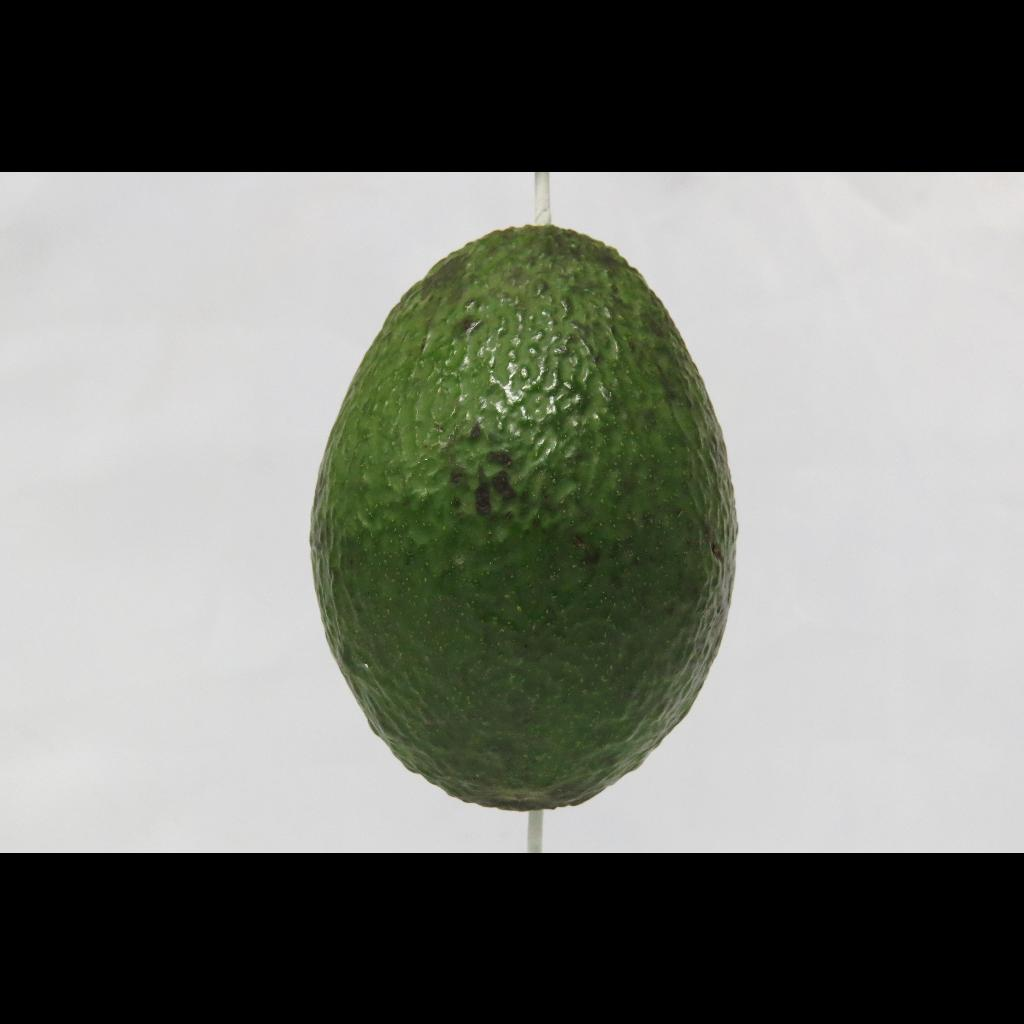fruto_sano: (283, 194, 756, 844)
